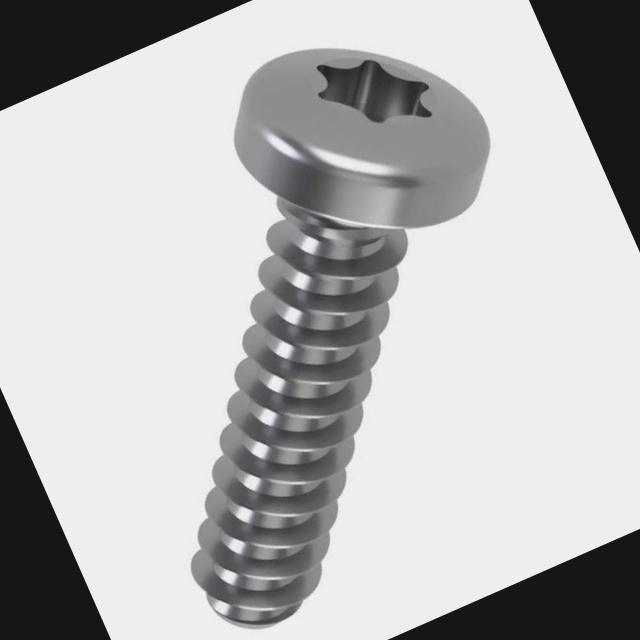torx: (204, 0, 518, 291)
